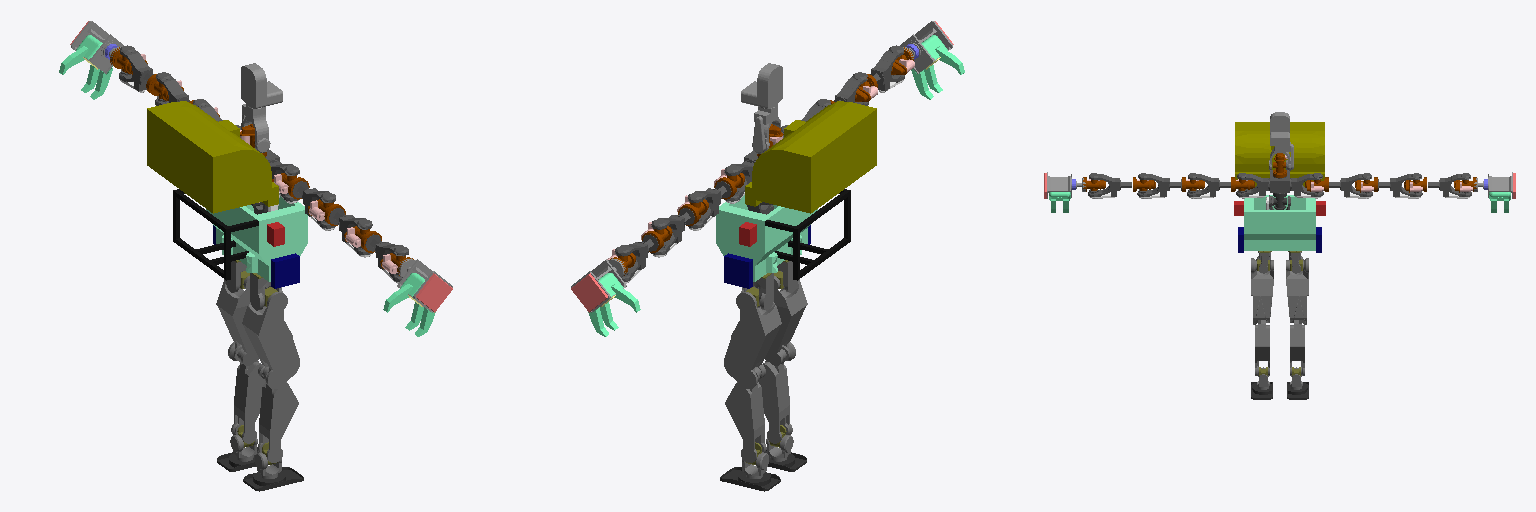
--- What the picture shows (computed from the rendered views, not written in the file) ---
3 views of the same robot in one strip: view 1: azimuth 30°, elevation 25°; view 2: azimuth 150°, elevation 25°; view 3: azimuth 270°, elevation 25° (orthographic).
Model STARO with 33 links and 32 joints (32 revolute), rooted at BODY, posed every joint at zero.
Visible links, largest first — view 1: CHEST_LINK1, BODY, RLEG_LINK2, RARM_LINK7, LARM_LINK7, HEAD_LINK1, RLEG_LINK3, LLEG_LINK3, LLEG_LINK2, RLEG_LINK5, LARM_LINK5, LLEG_LINK5 (+5 smaller); view 2: CHEST_LINK1, BODY, LLEG_LINK2, LARM_LINK7, RARM_LINK7, HEAD_LINK1, LLEG_LINK3, RLEG_LINK3, RLEG_LINK2, LLEG_LINK5, RLEG_LINK5, LARM_LINK1 (+5 smaller); view 3: CHEST_LINK1, BODY, LLEG_LINK2, RLEG_LINK2, HEAD_LINK1, LARM_LINK7, RARM_LINK7, LLEG_LINK3, RLEG_LINK3, RARM_LINK3, RARM_LINK1, RARM_LINK5 (+3 smaller).
Link boxes in pixels (x1,y1,x2,y2): CHEST_LINK1: [147, 101, 299, 213]; BODY: [173, 189, 307, 288]; RLEG_LINK2: [242, 292, 299, 388]; RARM_LINK7: [383, 258, 452, 336]; LARM_LINK7: [59, 21, 123, 99]; HEAD_LINK1: [241, 63, 282, 152]; RLEG_LINK3: [257, 367, 298, 462]; LLEG_LINK3: [231, 345, 265, 443]; LLEG_LINK2: [216, 276, 258, 365]; RLEG_LINK5: [243, 452, 303, 491]; LARM_LINK5: [119, 45, 153, 92]; LLEG_LINK5: [217, 435, 258, 471]; CHEST_LINK1: [724, 101, 876, 213]; BODY: [716, 189, 850, 288]; LLEG_LINK2: [724, 292, 781, 388]; LARM_LINK7: [571, 258, 640, 336]; RARM_LINK7: [900, 21, 964, 99]; HEAD_LINK1: [741, 63, 782, 153]; LLEG_LINK3: [725, 367, 766, 462]; RLEG_LINK3: [758, 345, 792, 443]; RLEG_LINK2: [765, 276, 807, 365]; LLEG_LINK5: [720, 452, 780, 491]; RLEG_LINK5: [765, 435, 806, 471]; LARM_LINK1: [688, 181, 731, 230]; CHEST_LINK1: [1235, 122, 1324, 198]; BODY: [1234, 195, 1325, 252]; LLEG_LINK2: [1286, 258, 1308, 324]; RLEG_LINK2: [1251, 258, 1273, 324]; HEAD_LINK1: [1269, 112, 1293, 170]; LARM_LINK7: [1474, 172, 1515, 212]; RARM_LINK7: [1044, 172, 1085, 212]; LLEG_LINK3: [1290, 320, 1304, 375]; RLEG_LINK3: [1255, 320, 1269, 375]; RARM_LINK3: [1137, 173, 1181, 198]; RARM_LINK1: [1187, 173, 1230, 198]; RARM_LINK5: [1088, 173, 1131, 198].
Bounding box of the posed robot: 0.498 × 2.86 × 1.84 m (x, y, z).
33 mesh visuals loaded from 33 distinct referenced files (33 Collada DAE).

robot.urdf — STARO:
<?xml version="1.0"?>
<robot name="STARO"
       xmlns:xi="http://www.w3.org/2001/XInclude"
       >
  <link name="BODY">
    <visual>
      <origin xyz="0 0 1" rpy="0 -0 0"/>
      <geometry>
        <mesh filename="package://hrpsys_ros_bridge_tutorials/models/STARO_meshes/BODY_mesh.dae" scale="1 1 1" />
      </geometry>
    </visual>
    <collision>
      <origin xyz="0 0 1" rpy="0 -0 0"/>
      <geometry>
        <mesh filename="package://hrpsys_ros_bridge_tutorials/models/STARO_meshes/BODY_mesh.dae" scale="1 1 1" />
      </geometry>
    </collision>
    <inertial>
      <mass value="32.776" />
      <origin xyz="-0.190402 0 0.115894" rpy="0 -0 0"/>
      <inertia ixx="0.69678" ixy="0" ixz="0" iyy="0.452632" iyz="0" izz="0.71809"/>
    </inertial>
  </link>
  <gazebo reference="BODY">
    <mu1>0.9</mu1>
    <mu2>0.9</mu2>
  </gazebo>
  <link name="CHEST_LINK0">
    <visual>
      <origin xyz="0.034 0 0.31625" rpy="0 -0 0"/>
      <geometry>
        <mesh filename="package://hrpsys_ros_bridge_tutorials/models/STARO_meshes/CHEST_LINK0_mesh.dae" scale="1 1 1" />
      </geometry>
    </visual>
    <collision>
      <origin xyz="0.034 0 0.31625" rpy="0 -0 0"/>
      <geometry>
        <mesh filename="package://hrpsys_ros_bridge_tutorials/models/STARO_meshes/CHEST_LINK0_mesh.dae" scale="1 1 1" />
      </geometry>
    </collision>
    <inertial>
      <mass value="1.1993" />
      <origin xyz="-0.0192471 -0.00344975 0.00418919" rpy="0 -0 0"/>
      <inertia ixx="0.00281879" ixy="0" ixz="0" iyy="0.00335762" iyz="0" izz="0.00223065"/>
    </inertial>
  </link>
  <gazebo reference="CHEST_LINK0">
    <mu1>0.9</mu1>
    <mu2>0.9</mu2>
  </gazebo>
  <link name="CHEST_LINK1">
    <visual>
      <origin xyz="0 0 0.11075" rpy="0 -0 0"/>
      <geometry>
        <mesh filename="package://hrpsys_ros_bridge_tutorials/models/STARO_meshes/CHEST_LINK1_mesh.dae" scale="1 1 1" />
      </geometry>
    </visual>
    <collision>
      <origin xyz="0 0 0.11075" rpy="0 -0 0"/>
      <geometry>
        <mesh filename="package://hrpsys_ros_bridge_tutorials/models/STARO_meshes/CHEST_LINK1_mesh.dae" scale="1 1 1" />
      </geometry>
    </collision>
    <inertial>
      <mass value="25.048" />
      <origin xyz="-0.238788 0 0.105496" rpy="0 -0 0"/>
      <inertia ixx="0.636675" ixy="0" ixz="0" iyy="0.476151" iyz="0" izz="0.798847"/>
    </inertial>
  </link>
  <gazebo reference="CHEST_LINK1">
    <mu1>0.9</mu1>
    <mu2>0.9</mu2>
  </gazebo>
  <link name="HEAD_LINK0">
    <visual>
      <origin xyz="-0.04 0 0.11375" rpy="0 -0 0"/>
      <geometry>
        <mesh filename="package://hrpsys_ros_bridge_tutorials/models/STARO_meshes/HEAD_LINK0_mesh.dae" scale="1 1 1" />
      </geometry>
    </visual>
    <collision>
      <origin xyz="-0.04 0 0.11375" rpy="0 -0 0"/>
      <geometry>
        <mesh filename="package://hrpsys_ros_bridge_tutorials/models/STARO_meshes/HEAD_LINK0_mesh.dae" scale="1 1 1" />
      </geometry>
    </collision>
    <inertial>
      <mass value="1.19931" />
      <origin xyz="-0.0192471 0.00344975 -0.00418919" rpy="0 -0 0"/>
      <inertia ixx="0.00281879" ixy="0" ixz="0" iyy="0.00335762" iyz="0" izz="0.00223065"/>
    </inertial>
  </link>
  <gazebo reference="HEAD_LINK0">
    <mu1>0.9</mu1>
    <mu2>0.9</mu2>
  </gazebo>
  <link name="HEAD_LINK1">
    <visual>
      <origin xyz="0 0 0" rpy="0 -0 0"/>
      <geometry>
        <mesh filename="package://hrpsys_ros_bridge_tutorials/models/STARO_meshes/HEAD_LINK1_mesh.dae" scale="1 1 1" />
      </geometry>
    </visual>
    <collision>
      <origin xyz="0 0 0" rpy="0 -0 0"/>
      <geometry>
        <mesh filename="package://hrpsys_ros_bridge_tutorials/models/STARO_meshes/HEAD_LINK1_mesh.dae" scale="1 1 1" />
      </geometry>
    </collision>
    <inertial>
      <mass value="4.66881" />
      <origin xyz="0.011994 0.005204 0.228344" rpy="0 -0 0"/>
      <inertia ixx="0.15" ixy="1.76326e-18" ixz="0.01" iyy="0.16" iyz="-1.33463e-17" izz="0.04"/>
    </inertial>
  </link>
  <gazebo reference="HEAD_LINK1">
    <mu1>0.9</mu1>
    <mu2>0.9</mu2>
  </gazebo>
  <link name="LARM_LINK0">
    <visual>
      <origin xyz="0 0.228 0" rpy="0 -0 0"/>
      <geometry>
        <mesh filename="package://hrpsys_ros_bridge_tutorials/models/STARO_meshes/LARM_LINK0_mesh.dae" scale="1 1 1" />
      </geometry>
    </visual>
    <collision>
      <origin xyz="0 0.228 0" rpy="0 -0 0"/>
      <geometry>
        <mesh filename="package://hrpsys_ros_bridge_tutorials/models/STARO_meshes/LARM_LINK0_mesh.dae" scale="1 1 1" />
      </geometry>
    </collision>
    <inertial>
      <mass value="1.13953" />
      <origin xyz="0.0181233 0.00313031 -0.00166688" rpy="0 -0 0"/>
      <inertia ixx="0.001711" ixy="-9.9e-05" ixz="-9.1e-05" iyy="0.001451" iyz="7e-06" izz="0.002643"/>
    </inertial>
  </link>
  <gazebo reference="LARM_LINK0">
    <mu1>0.9</mu1>
    <mu2>0.9</mu2>
  </gazebo>
  <link name="LARM_LINK1">
    <visual>
      <origin xyz="0 0.06875 0" rpy="0 -0 0"/>
      <geometry>
        <mesh filename="package://hrpsys_ros_bridge_tutorials/models/STARO_meshes/LARM_LINK1_mesh.dae" scale="1 1 1" />
      </geometry>
    </visual>
    <collision>
      <origin xyz="0 0.06875 0" rpy="0 -0 0"/>
      <geometry>
        <mesh filename="package://hrpsys_ros_bridge_tutorials/models/STARO_meshes/LARM_LINK1_mesh.dae" scale="1 1 1" />
      </geometry>
    </collision>
    <inertial>
      <mass value="2.01057" />
      <origin xyz="-1.4651e-05 0.125221 -0.0132115" rpy="0 -0 0"/>
      <inertia ixx="0.048764" ixy="-3e-06" ixz="2e-06" iyy="0.004042" iyz="-0.004373" izz="0.046094"/>
    </inertial>
  </link>
  <gazebo reference="LARM_LINK1">
    <mu1>0.9</mu1>
    <mu2>0.9</mu2>
  </gazebo>
  <link name="LARM_LINK2">
    <visual>
      <origin xyz="0 0.23125 0" rpy="0 -0 0"/>
      <geometry>
        <mesh filename="package://hrpsys_ros_bridge_tutorials/models/STARO_meshes/LARM_LINK2_mesh.dae" scale="1 1 1" />
      </geometry>
    </visual>
    <collision>
      <origin xyz="0 0.23125 0" rpy="0 -0 0"/>
      <geometry>
        <mesh filename="package://hrpsys_ros_bridge_tutorials/models/STARO_meshes/LARM_LINK2_mesh.dae" scale="1 1 1" />
      </geometry>
    </collision>
    <inertial>
      <mass value="1.13953" />
      <origin xyz="0.0181233 0.00313031 -0.00166688" rpy="0 -0 0"/>
      <inertia ixx="0.001711" ixy="-9.9e-05" ixz="-9.1e-05" iyy="0.001451" iyz="7e-06" izz="0.002643"/>
    </inertial>
  </link>
  <gazebo reference="LARM_LINK2">
    <mu1>0.9</mu1>
    <mu2>0.9</mu2>
  </gazebo>
  <link name="LARM_LINK3">
    <visual>
      <origin xyz="0 0.06875 0" rpy="0 -0 0"/>
      <geometry>
        <mesh filename="package://hrpsys_ros_bridge_tutorials/models/STARO_meshes/LARM_LINK3_mesh.dae" scale="1 1 1" />
      </geometry>
    </visual>
    <collision>
      <origin xyz="0 0.06875 0" rpy="0 -0 0"/>
      <geometry>
        <mesh filename="package://hrpsys_ros_bridge_tutorials/models/STARO_meshes/LARM_LINK3_mesh.dae" scale="1 1 1" />
      </geometry>
    </collision>
    <inertial>
      <mass value="2.01057" />
      <origin xyz="-1.4651e-05 0.125221 -0.0132115" rpy="0 -0 0"/>
      <inertia ixx="0.048764" ixy="-3e-06" ixz="2e-06" iyy="0.004042" iyz="-0.004373" izz="0.046094"/>
    </inertial>
  </link>
  <gazebo reference="LARM_LINK3">
    <mu1>0.9</mu1>
    <mu2>0.9</mu2>
  </gazebo>
  <link name="LARM_LINK4">
    <visual>
      <origin xyz="0 0.23125 0" rpy="0 -0 0"/>
      <geometry>
        <mesh filename="package://hrpsys_ros_bridge_tutorials/models/STARO_meshes/LARM_LINK4_mesh.dae" scale="1 1 1" />
      </geometry>
    </visual>
    <collision>
      <origin xyz="0 0.23125 0" rpy="0 -0 0"/>
      <geometry>
        <mesh filename="package://hrpsys_ros_bridge_tutorials/models/STARO_meshes/LARM_LINK4_mesh.dae" scale="1 1 1" />
      </geometry>
    </collision>
    <inertial>
      <mass value="1.13953" />
      <origin xyz="0.0181233 0.00313031 -0.00166688" rpy="0 -0 0"/>
      <inertia ixx="0.001711" ixy="-9.9e-05" ixz="-9.1e-05" iyy="0.001451" iyz="7e-06" izz="0.002643"/>
    </inertial>
  </link>
  <gazebo reference="LARM_LINK4">
    <mu1>0.9</mu1>
    <mu2>0.9</mu2>
  </gazebo>
  <link name="LARM_LINK5">
    <visual>
      <origin xyz="0 0.06875 0" rpy="0 -0 0"/>
      <geometry>
        <mesh filename="package://hrpsys_ros_bridge_tutorials/models/STARO_meshes/LARM_LINK5_mesh.dae" scale="1 1 1" />
      </geometry>
    </visual>
    <collision>
      <origin xyz="0 0.06875 0" rpy="0 -0 0"/>
      <geometry>
        <mesh filename="package://hrpsys_ros_bridge_tutorials/models/STARO_meshes/LARM_LINK5_mesh.dae" scale="1 1 1" />
      </geometry>
    </collision>
    <inertial>
      <mass value="2.01057" />
      <origin xyz="-1.4651e-05 0.125221 -0.0132115" rpy="0 -0 0"/>
      <inertia ixx="0.048764" ixy="-3e-06" ixz="2e-06" iyy="0.004042" iyz="-0.004373" izz="0.046094"/>
    </inertial>
  </link>
  <gazebo reference="LARM_LINK5">
    <mu1>0.9</mu1>
    <mu2>0.9</mu2>
  </gazebo>
  <link name="LARM_LINK6">
    <visual>
      <origin xyz="0 0.23125 0" rpy="0 -0 0"/>
      <geometry>
        <mesh filename="package://hrpsys_ros_bridge_tutorials/models/STARO_meshes/LARM_LINK6_mesh.dae" scale="1 1 1" />
      </geometry>
    </visual>
    <collision>
      <origin xyz="0 0.23125 0" rpy="0 -0 0"/>
      <geometry>
        <mesh filename="package://hrpsys_ros_bridge_tutorials/models/STARO_meshes/LARM_LINK6_mesh.dae" scale="1 1 1" />
      </geometry>
    </collision>
    <inertial>
      <mass value="1.13953" />
      <origin xyz="0.0181233 0.00313031 -0.00166688" rpy="0 -0 0"/>
      <inertia ixx="0.001711" ixy="-9.9e-05" ixz="-9.1e-05" iyy="0.001451" iyz="7e-06" izz="0.002643"/>
    </inertial>
  </link>
  <gazebo reference="LARM_LINK6">
    <mu1>0.9</mu1>
    <mu2>0.9</mu2>
  </gazebo>
  <link name="LARM_LINK7">
    <visual>
      <origin xyz="0 0.0617 0" rpy="0 -0 0"/>
      <geometry>
        <mesh filename="package://hrpsys_ros_bridge_tutorials/models/STARO_meshes/LARM_LINK7_mesh.dae" scale="1 1 1" />
      </geometry>
    </visual>
    <collision>
      <origin xyz="0 0.0617 0" rpy="0 -0 0"/>
      <geometry>
        <mesh filename="package://hrpsys_ros_bridge_tutorials/models/STARO_meshes/LARM_LINK7_mesh.dae" scale="1 1 1" />
      </geometry>
    </collision>
    <inertial>
      <mass value="4.719" />
      <origin xyz="-0.021091 0.120487 -0.025257" rpy="0 -0 0"/>
      <inertia ixx="0.0527968" ixy="0" ixz="0" iyy="0.057042" iyz="0" izz="0.0492541"/>
    </inertial>
  </link>
  <gazebo reference="LARM_LINK7">
    <mu1>0.9</mu1>
    <mu2>0.9</mu2>
  </gazebo>
  <link name="RARM_LINK0">
    <visual>
      <origin xyz="0 -0.228 0" rpy="0 -0 0"/>
      <geometry>
        <mesh filename="package://hrpsys_ros_bridge_tutorials/models/STARO_meshes/RARM_LINK0_mesh.dae" scale="1 1 1" />
      </geometry>
    </visual>
    <collision>
      <origin xyz="0 -0.228 0" rpy="0 -0 0"/>
      <geometry>
        <mesh filename="package://hrpsys_ros_bridge_tutorials/models/STARO_meshes/RARM_LINK0_mesh.dae" scale="1 1 1" />
      </geometry>
    </collision>
    <inertial>
      <mass value="1.13953" />
      <origin xyz="-0.0181233 -0.00313031 -0.00166688" rpy="0 -0 0"/>
      <inertia ixx="0.001711" ixy="-9.9e-05" ixz="9.1e-05" iyy="0.001451" iyz="-7e-06" izz="0.002643"/>
    </inertial>
  </link>
  <gazebo reference="RARM_LINK0">
    <mu1>0.9</mu1>
    <mu2>0.9</mu2>
  </gazebo>
  <link name="RARM_LINK1">
    <visual>
      <origin xyz="0 -0.06875 0" rpy="0 -0 0"/>
      <geometry>
        <mesh filename="package://hrpsys_ros_bridge_tutorials/models/STARO_meshes/RARM_LINK1_mesh.dae" scale="1 1 1" />
      </geometry>
    </visual>
    <collision>
      <origin xyz="0 -0.06875 0" rpy="0 -0 0"/>
      <geometry>
        <mesh filename="package://hrpsys_ros_bridge_tutorials/models/STARO_meshes/RARM_LINK1_mesh.dae" scale="1 1 1" />
      </geometry>
    </collision>
    <inertial>
      <mass value="2.01057" />
      <origin xyz="1.4651e-05 -0.125221 -0.0132115" rpy="0 -0 0"/>
      <inertia ixx="0.048764" ixy="-3e-06" ixz="-2e-06" iyy="0.004042" iyz="0.004373" izz="0.046094"/>
    </inertial>
  </link>
  <gazebo reference="RARM_LINK1">
    <mu1>0.9</mu1>
    <mu2>0.9</mu2>
  </gazebo>
  <link name="RARM_LINK2">
    <visual>
      <origin xyz="0 -0.23125 0" rpy="0 -0 0"/>
      <geometry>
        <mesh filename="package://hrpsys_ros_bridge_tutorials/models/STARO_meshes/RARM_LINK2_mesh.dae" scale="1 1 1" />
      </geometry>
    </visual>
    <collision>
      <origin xyz="0 -0.23125 0" rpy="0 -0 0"/>
      <geometry>
        <mesh filename="package://hrpsys_ros_bridge_tutorials/models/STARO_meshes/RARM_LINK2_mesh.dae" scale="1 1 1" />
      </geometry>
    </collision>
    <inertial>
      <mass value="1.13953" />
      <origin xyz="-0.0181233 -0.00313031 -0.00166688" rpy="0 -0 0"/>
      <inertia ixx="0.001711" ixy="-9.9e-05" ixz="9.1e-05" iyy="0.001451" iyz="-7e-06" izz="0.002643"/>
    </inertial>
  </link>
  <gazebo reference="RARM_LINK2">
    <mu1>0.9</mu1>
    <mu2>0.9</mu2>
  </gazebo>
  <link name="RARM_LINK3">
    <visual>
      <origin xyz="0 -0.06875 0" rpy="0 -0 0"/>
      <geometry>
        <mesh filename="package://hrpsys_ros_bridge_tutorials/models/STARO_meshes/RARM_LINK3_mesh.dae" scale="1 1 1" />
      </geometry>
    </visual>
    <collision>
      <origin xyz="0 -0.06875 0" rpy="0 -0 0"/>
      <geometry>
        <mesh filename="package://hrpsys_ros_bridge_tutorials/models/STARO_meshes/RARM_LINK3_mesh.dae" scale="1 1 1" />
      </geometry>
    </collision>
    <inertial>
      <mass value="2.01057" />
      <origin xyz="1.4651e-05 -0.125221 -0.0132115" rpy="0 -0 0"/>
      <inertia ixx="0.048764" ixy="-3e-06" ixz="-2e-06" iyy="0.004042" iyz="0.004373" izz="0.046094"/>
    </inertial>
  </link>
  <gazebo reference="RARM_LINK3">
    <mu1>0.9</mu1>
    <mu2>0.9</mu2>
  </gazebo>
  <link name="RARM_LINK4">
    <visual>
      <origin xyz="0 -0.23125 0" rpy="0 -0 0"/>
      <geometry>
        <mesh filename="package://hrpsys_ros_bridge_tutorials/models/STARO_meshes/RARM_LINK4_mesh.dae" scale="1 1 1" />
      </geometry>
    </visual>
    <collision>
      <origin xyz="0 -0.23125 0" rpy="0 -0 0"/>
      <geometry>
        <mesh filename="package://hrpsys_ros_bridge_tutorials/models/STARO_meshes/RARM_LINK4_mesh.dae" scale="1 1 1" />
      </geometry>
    </collision>
    <inertial>
      <mass value="1.13953" />
      <origin xyz="-0.0181233 -0.00313031 -0.00166688" rpy="0 -0 0"/>
      <inertia ixx="0.001711" ixy="-9.9e-05" ixz="9.1e-05" iyy="0.001451" iyz="-7e-06" izz="0.002643"/>
    </inertial>
  </link>
  <gazebo reference="RARM_LINK4">
    <mu1>0.9</mu1>
    <mu2>0.9</mu2>
  </gazebo>
  <link name="RARM_LINK5">
    <visual>
      <origin xyz="0 -0.06875 0" rpy="0 -0 0"/>
      <geometry>
        <mesh filename="package://hrpsys_ros_bridge_tutorials/models/STARO_meshes/RARM_LINK5_mesh.dae" scale="1 1 1" />
      </geometry>
    </visual>
    <collision>
      <origin xyz="0 -0.06875 0" rpy="0 -0 0"/>
      <geometry>
        <mesh filename="package://hrpsys_ros_bridge_tutorials/models/STARO_meshes/RARM_LINK5_mesh.dae" scale="1 1 1" />
      </geometry>
    </collision>
    <inertial>
      <mass value="2.01057" />
      <origin xyz="1.4651e-05 -0.125221 -0.0132115" rpy="0 -0 0"/>
      <inertia ixx="0.048764" ixy="-3e-06" ixz="-2e-06" iyy="0.004042" iyz="0.004373" izz="0.046094"/>
    </inertial>
  </link>
  <gazebo reference="RARM_LINK5">
    <mu1>0.9</mu1>
    <mu2>0.9</mu2>
  </gazebo>
  <link name="RARM_LINK6">
    <visual>
      <origin xyz="0 -0.23125 0" rpy="0 -0 0"/>
      <geometry>
        <mesh filename="package://hrpsys_ros_bridge_tutorials/models/STARO_meshes/RARM_LINK6_mesh.dae" scale="1 1 1" />
      </geometry>
    </visual>
    <collision>
      <origin xyz="0 -0.23125 0" rpy="0 -0 0"/>
      <geometry>
        <mesh filename="package://hrpsys_ros_bridge_tutorials/models/STARO_meshes/RARM_LINK6_mesh.dae" scale="1 1 1" />
      </geometry>
    </collision>
    <inertial>
      <mass value="1.13953" />
      <origin xyz="-0.0181233 -0.00313031 -0.00166688" rpy="0 -0 0"/>
      <inertia ixx="0.001711" ixy="-9.9e-05" ixz="9.1e-05" iyy="0.001451" iyz="-7e-06" izz="0.002643"/>
    </inertial>
  </link>
  <gazebo reference="RARM_LINK6">
    <mu1>0.9</mu1>
    <mu2>0.9</mu2>
  </gazebo>
  <link name="RARM_LINK7">
    <visual>
      <origin xyz="0 -0.0617 0" rpy="0 -0 0"/>
      <geometry>
        <mesh filename="package://hrpsys_ros_bridge_tutorials/models/STARO_meshes/RARM_LINK7_mesh.dae" scale="1 1 1" />
      </geometry>
    </visual>
    <collision>
      <origin xyz="0 -0.0617 0" rpy="0 -0 0"/>
      <geometry>
        <mesh filename="package://hrpsys_ros_bridge_tutorials/models/STARO_meshes/RARM_LINK7_mesh.dae" scale="1 1 1" />
      </geometry>
    </collision>
    <inertial>
      <mass value="4.719" />
      <origin xyz="0.021091 -0.120487 -0.025257" rpy="0 -0 0"/>
      <inertia ixx="0.0527968" ixy="0" ixz="0" iyy="0.057042" iyz="0" izz="0.0492541"/>
    </inertial>
  </link>
  <gazebo reference="RARM_LINK7">
    <mu1>0.9</mu1>
    <mu2>0.9</mu2>
  </gazebo>
  <link name="LLEG_LINK0">
    <visual>
      <origin xyz="0 0.1 -0.13" rpy="0 -0 0"/>
      <geometry>
        <mesh filename="package://hrpsys_ros_bridge_tutorials/models/STARO_meshes/LLEG_LINK0_mesh.dae" scale="1 1 1" />
      </geometry>
    </visual>
    <collision>
      <origin xyz="0 0.1 -0.13" rpy="0 -0 0"/>
      <geometry>
        <mesh filename="package://hrpsys_ros_bridge_tutorials/models/STARO_meshes/LLEG_LINK0_mesh.dae" scale="1 1 1" />
      </geometry>
    </collision>
    <inertial>
      <mass value="3.17796" />
      <origin xyz="-0.0226927 -0.0065719 0.0596927" rpy="0 -0 0"/>
      <inertia ixx="0.021215" ixy="0.000442" ixz="-0.002996" iyy="0.025662" iyz="-0.001696" izz="0.008518"/>
    </inertial>
  </link>
  <gazebo reference="LLEG_LINK0">
    <mu1>0.9</mu1>
    <mu2>0.9</mu2>
  </gazebo>
  <link name="LLEG_LINK1">
    <visual>
      <origin xyz="0 0 0" rpy="0 -0 0"/>
      <geometry>
        <mesh filename="package://hrpsys_ros_bridge_tutorials/models/STARO_meshes/LLEG_LINK1_mesh.dae" scale="1 1 1" />
      </geometry>
    </visual>
    <collision>
      <origin xyz="0 0 0" rpy="0 -0 0"/>
      <geometry>
        <mesh filename="package://hrpsys_ros_bridge_tutorials/models/STARO_meshes/LLEG_LINK1_mesh.dae" scale="1 1 1" />
      </geometry>
    </collision>
    <inertial>
      <mass value="1.07827" />
      <origin xyz="-0.00687398 0.0075576 4e-07" rpy="0 -0 0"/>
      <inertia ixx="0.001174" ixy="3e-06" ixz="0" iyy="0.000908" iyz="0" izz="0.001668"/>
    </inertial>
  </link>
  <gazebo reference="LLEG_LINK1">
    <mu1>0.9</mu1>
    <mu2>0.9</mu2>
  </gazebo>
  <link name="LLEG_LINK2">
    <visual>
      <origin xyz="0 0 0" rpy="0 -0 0"/>
      <geometry>
        <mesh filename="package://hrpsys_ros_bridge_tutorials/models/STARO_meshes/LLEG_LINK2_mesh.dae" scale="1 1 1" />
      </geometry>
    </visual>
    <collision>
      <origin xyz="0 0 0" rpy="0 -0 0"/>
      <geometry>
        <mesh filename="package://hrpsys_ros_bridge_tutorials/models/STARO_meshes/LLEG_LINK2_mesh.dae" scale="1 1 1" />
      </geometry>
    </collision>
    <inertial>
      <mass value="5.25696" />
      <origin xyz="0.00314668 0.0279981 -0.184447" rpy="0 -0 0"/>
      <inertia ixx="0.262555" ixy="-5.3e-05" ixz="-0.012397" iyy="0.259532" iyz="-0.026194" izz="0.021105"/>
    </inertial>
  </link>
  <gazebo reference="LLEG_LINK2">
    <mu1>0.9</mu1>
    <mu2>0.9</mu2>
  </gazebo>
  <link name="LLEG_LINK3">
    <visual>
      <origin xyz="0 0 -0.35" rpy="0 -0 0"/>
      <geometry>
        <mesh filename="package://hrpsys_ros_bridge_tutorials/models/STARO_meshes/LLEG_LINK3_mesh.dae" scale="1 1 1" />
      </geometry>
    </visual>
    <collision>
      <origin xyz="0 0 -0.35" rpy="0 -0 0"/>
      <geometry>
        <mesh filename="package://hrpsys_ros_bridge_tutorials/models/STARO_meshes/LLEG_LINK3_mesh.dae" scale="1 1 1" />
      </geometry>
    </collision>
    <inertial>
      <mass value="2.75717" />
      <origin xyz="0.0218854 0.0198498 -0.176264" rpy="0 -0 0"/>
      <inertia ixx="0.129154" ixy="0.00099" ixz="-0.008118" iyy="0.129978" iyz="-0.01022" izz="0.008109"/>
    </inertial>
  </link>
  <gazebo reference="LLEG_LINK3">
    <mu1>0.9</mu1>
    <mu2>0.9</mu2>
  </gazebo>
  <link name="LLEG_LINK4">
    <visual>
      <origin xyz="0 0 -0.35" rpy="0 -0 0"/>
      <geometry>
        <mesh filename="package://hrpsys_ros_bridge_tutorials/models/STARO_meshes/LLEG_LINK4_mesh.dae" scale="1 1 1" />
      </geometry>
    </visual>
    <collision>
      <origin xyz="0 0 -0.35" rpy="0 -0 0"/>
      <geometry>
        <mesh filename="package://hrpsys_ros_bridge_tutorials/models/STARO_meshes/LLEG_LINK4_mesh.dae" scale="1 1 1" />
      </geometry>
    </collision>
    <inertial>
      <mass value="0.861204" />
      <origin xyz="-0.0108552 0.00265416 -0.00745108" rpy="0 -0 0"/>
      <inertia ixx="0.000928" ixy="-1.8e-05" ixz="4.9e-05" iyy="0.001322" iyz="2.1e-05" izz="0.001023"/>
    </inertial>
  </link>
  <gazebo reference="LLEG_LINK4">
    <mu1>0.9</mu1>
    <mu2>0.9</mu2>
  </gazebo>
  <link name="LLEG_LINK5">
    <visual>
      <origin xyz="0 0 -0.04" rpy="0 -0 0"/>
      <geometry>
        <mesh filename="package://hrpsys_ros_bridge_tutorials/models/STARO_meshes/LLEG_LINK5_mesh.dae" scale="1 1 1" />
      </geometry>
    </visual>
    <collision>
      <origin xyz="0 0 -0.04" rpy="0 -0 0"/>
      <geometry>
        <mesh filename="package://hrpsys_ros_bridge_tutorials/models/STARO_meshes/LLEG_LINK5_mesh.dae" scale="1 1 1" />
      </geometry>
    </collision>
    <inertial>
      <mass value="1.56991" />
      <origin xyz="-0.000981687 0.00261915 -0.0551299" rpy="0 -0 0"/>
      <inertia ixx="0.00815" ixy="5.3e-05" ixz="-0.000329" iyy="0.009522" iyz="-0.000362" izz="0.004221"/>
    </inertial>
  </link>
  <gazebo reference="LLEG_LINK5">
    <mu1>0.9</mu1>
    <mu2>0.9</mu2>
  </gazebo>
  <link name="RLEG_LINK0">
    <visual>
      <origin xyz="0 -0.1 -0.13" rpy="0 -0 0"/>
      <geometry>
        <mesh filename="package://hrpsys_ros_bridge_tutorials/models/STARO_meshes/RLEG_LINK0_mesh.dae" scale="1 1 1" />
      </geometry>
    </visual>
    <collision>
      <origin xyz="0 -0.1 -0.13" rpy="0 -0 0"/>
      <geometry>
        <mesh filename="package://hrpsys_ros_bridge_tutorials/models/STARO_meshes/RLEG_LINK0_mesh.dae" scale="1 1 1" />
      </geometry>
    </collision>
    <inertial>
      <mass value="3.17796" />
      <origin xyz="-0.0226927 0.0065719 0.0596927" rpy="0 -0 0"/>
      <inertia ixx="0.021215" ixy="-0.000442" ixz="-0.002996" iyy="0.025662" iyz="0.001696" izz="0.008518"/>
    </inertial>
  </link>
  <gazebo reference="RLEG_LINK0">
    <mu1>0.9</mu1>
    <mu2>0.9</mu2>
  </gazebo>
  <link name="RLEG_LINK1">
    <visual>
      <origin xyz="0 0 0" rpy="0 -0 0"/>
      <geometry>
        <mesh filename="package://hrpsys_ros_bridge_tutorials/models/STARO_meshes/RLEG_LINK1_mesh.dae" scale="1 1 1" />
      </geometry>
    </visual>
    <collision>
      <origin xyz="0 0 0" rpy="0 -0 0"/>
      <geometry>
        <mesh filename="package://hrpsys_ros_bridge_tutorials/models/STARO_meshes/RLEG_LINK1_mesh.dae" scale="1 1 1" />
      </geometry>
    </collision>
    <inertial>
      <mass value="1.07827" />
      <origin xyz="-0.00687398 -0.0075576 4e-07" rpy="0 -0 0"/>
      <inertia ixx="0.001174" ixy="-3e-06" ixz="0" iyy="0.000908" iyz="0" izz="0.001668"/>
    </inertial>
  </link>
  <gazebo reference="RLEG_LINK1">
    <mu1>0.9</mu1>
    <mu2>0.9</mu2>
  </gazebo>
  <link name="RLEG_LINK2">
    <visual>
      <origin xyz="0 0 0" rpy="0 -0 0"/>
      <geometry>
        <mesh filename="package://hrpsys_ros_bridge_tutorials/models/STARO_meshes/RLEG_LINK2_mesh.dae" scale="1 1 1" />
      </geometry>
    </visual>
    <collision>
      <origin xyz="0 0 0" rpy="0 -0 0"/>
      <geometry>
        <mesh filename="package://hrpsys_ros_bridge_tutorials/models/STARO_meshes/RLEG_LINK2_mesh.dae" scale="1 1 1" />
      </geometry>
    </collision>
    <inertial>
      <mass value="5.25696" />
      <origin xyz="0.00314668 -0.0279981 -0.184447" rpy="0 -0 0"/>
      <inertia ixx="0.262555" ixy="5.3e-05" ixz="-0.012397" iyy="0.259532" iyz="0.026194" izz="0.021105"/>
    </inertial>
  </link>
  <gazebo reference="RLEG_LINK2">
    <mu1>0.9</mu1>
    <mu2>0.9</mu2>
  </gazebo>
  <link name="RLEG_LINK3">
    <visual>
      <origin xyz="0 0 -0.35" rpy="0 -0 0"/>
      <geometry>
        <mesh filename="package://hrpsys_ros_bridge_tutorials/models/STARO_meshes/RLEG_LINK3_mesh.dae" scale="1 1 1" />
      </geometry>
    </visual>
    <collision>
      <origin xyz="0 0 -0.35" rpy="0 -0 0"/>
      <geometry>
        <mesh filename="package://hrpsys_ros_bridge_tutorials/models/STARO_meshes/RLEG_LINK3_mesh.dae" scale="1 1 1" />
      </geometry>
    </collision>
    <inertial>
      <mass value="2.75717" />
      <origin xyz="0.0218854 -0.0198498 -0.176264" rpy="0 -0 0"/>
      <inertia ixx="0.129154" ixy="-0.00099" ixz="-0.008118" iyy="0.129978" iyz="0.01022" izz="0.008109"/>
    </inertial>
  </link>
  <gazebo reference="RLEG_LINK3">
    <mu1>0.9</mu1>
    <mu2>0.9</mu2>
  </gazebo>
  <link name="RLEG_LINK4">
    <visual>
      <origin xyz="0 0 -0.35" rpy="0 -0 0"/>
      <geometry>
        <mesh filename="package://hrpsys_ros_bridge_tutorials/models/STARO_meshes/RLEG_LINK4_mesh.dae" scale="1 1 1" />
      </geometry>
    </visual>
    <collision>
      <origin xyz="0 0 -0.35" rpy="0 -0 0"/>
      <geometry>
        <mesh filename="package://hrpsys_ros_bridge_tutorials/models/STARO_meshes/RLEG_LINK4_mesh.dae" scale="1 1 1" />
      </geometry>
    </collision>
    <inertial>
      <mass value="0.861204" />
      <origin xyz="-0.0108552 -0.00265416 -0.00745108" rpy="0 -0 0"/>
      <inertia ixx="0.000928" ixy="1.8e-05" ixz="4.9e-05" iyy="0.001322" iyz="-2.1e-05" izz="0.001023"/>
    </inertial>
  </link>
  <gazebo reference="RLEG_LINK4">
    <mu1>0.9</mu1>
    <mu2>0.9</mu2>
  </gazebo>
  <link name="RLEG_LINK5">
    <visual>
      <origin xyz="0 0 -0.04" rpy="0 -0 0"/>
      <geometry>
        <mesh filename="package://hrpsys_ros_bridge_tutorials/models/STARO_meshes/RLEG_LINK5_mesh.dae" scale="1 1 1" />
      </geometry>
    </visual>
    <collision>
      <origin xyz="0 0 -0.04" rpy="0 -0 0"/>
      <geometry>
        <mesh filename="package://hrpsys_ros_bridge_tutorials/models/STARO_meshes/RLEG_LINK5_mesh.dae" scale="1 1 1" />
      </geometry>
    </collision>
    <inertial>
      <mass value="1.56991" />
      <origin xyz="-0.000981687 -0.00261915 -0.0551299" rpy="0 -0 0"/>
      <inertia ixx="0.00815" ixy="-5.3e-05" ixz="-0.000329" iyy="0.009522" iyz="0.000362" izz="0.004221"/>
    </inertial>
  </link>
  <gazebo reference="RLEG_LINK5">
    <mu1>0.9</mu1>
    <mu2>0.9</mu2>
  </gazebo>
  <joint name="CHEST_JOINT0" type="revolute">
    <parent link="BODY"/>
    <child  link="CHEST_LINK0"/>
    <origin xyz="0.034 0 0.31625" rpy="0 -0 0 "/>
    <axis   xyz="0 1 0"/>
    <limit lower="-0.296706" upper="1.27409" effort="316.804" velocity="4.40217" />
    <dynamics damping="0.2" friction="0" />
  </joint>
  <transmission type="pr2_mechanism_model/SimpleTransmission" name="CHEST_JOINT0_trans" >
    <actuator name="CHEST_JOINT0_motor" />
    <joint name="CHEST_JOINT0" />
    <mechanicalReduction>1</mechanicalReduction>
  </transmission>
  <gazebo reference="CHEST_JOINT0">
    <cfmDamping>0.4</cfmDamping>
  </gazebo>
  <joint name="CHEST_JOINT1" type="revolute">
    <parent link="CHEST_LINK0"/>
    <child  link="CHEST_LINK1"/>
    <origin xyz="0 0 0.11075" rpy="0 -0 0 "/>
    <axis   xyz="0 0 1"/>
    <limit lower="-1.5708" upper="1.5708" effort="316.804" velocity="2.3963" />
    <dynamics damping="0.2" friction="0" />
  </joint>
  <transmission type="pr2_mechanism_model/SimpleTransmission" name="CHEST_JOINT1_trans" >
    <actuator name="CHEST_JOINT1_motor" />
    <joint name="CHEST_JOINT1" />
    <mechanicalReduction>1</mechanicalReduction>
  </transmission>
  <gazebo reference="CHEST_JOINT1">
    <cfmDamping>0.4</cfmDamping>
  </gazebo>
  <joint name="HEAD_JOINT0" type="revolute">
    <parent link="CHEST_LINK1"/>
    <child  link="HEAD_LINK0"/>
    <origin xyz="-0.04 0 0.11375" rpy="0 -0 0 "/>
    <axis   xyz="0 0 1"/>
    <limit lower="-0.436332" upper="0.436332" effort="316.804" velocity="6.87679" />
    <dynamics damping="0.2" friction="0" />
  </joint>
  <transmission type="pr2_mechanism_model/SimpleTransmission" name="HEAD_JOINT0_trans" >
    <actuator name="HEAD_JOINT0_motor" />
    <joint name="HEAD_JOINT0" />
    <mechanicalReduction>1</mechanicalReduction>
  </transmission>
  <gazebo reference="HEAD_JOINT0">
    <cfmDamping>0.4</cfmDamping>
  </gazebo>
  <joint name="HEAD_JOINT1" type="revolute">
    <parent link="HEAD_LINK0"/>
    <child  link="HEAD_LINK1"/>
    <origin xyz="0 0 0" rpy="0 -0 0 "/>
    <axis   xyz="0 1 0"/>
    <limit lower="-0.087266" upper="1.309" effort="316.804" velocity="6.87679" />
    <dynamics damping="0.2" friction="0" />
  </joint>
  <transmission type="pr2_mechanism_model/SimpleTransmission" name="HEAD_JOINT1_trans" >
    <actuator name="HEAD_JOINT1_motor" />
    <joint name="HEAD_JOINT1" />
    <mechanicalReduction>1</mechanicalReduction>
  </transmission>
  <gazebo reference="HEAD_JOINT1">
    <cfmDamping>0.4</cfmDamping>
  </gazebo>
  <joint name="LARM_JOINT0" type="revolute">
    <parent link="CHEST_LINK1"/>
    <child  link="LARM_LINK0"/>
    <origin xyz="0 0.228 0" rpy="0 -0 0 "/>
    <axis   xyz="0 0 1"/>
    <limit lower="-2.35619" upper="0.174533" effort="316.804" velocity="4.17044" />
    <dynamics damping="0.2" friction="0" />
  </joint>
  <transmission type="pr2_mechanism_model/SimpleTransmission" name="LARM_JOINT0_trans" >
    <actuator name="LARM_JOINT0_motor" />
    <joint name="LARM_JOINT0" />
    <mechanicalReduction>1</mechanicalReduction>
  </transmission>
  <gazebo reference="LARM_JOINT0">
    <cfmDamping>0.4</cfmDamping>
  </gazebo>
  <joint name="LARM_JOINT1" type="revolute">
    <parent link="LARM_LINK0"/>
    <child  link="LARM_LINK1"/>
    <origin xyz="0 0.06875 0" rpy="0 -0 0 "/>
    <axis   xyz="0 1 0"/>
    <limit lower="-3.14159" upper="3.14159" effort="316.804" velocity="4.17044" />
    <dynamics damping="0.2" friction="0" />
  </joint>
  <transmission type="pr2_mechanism_model/SimpleTransmission" name="LARM_JOINT1_trans" >
    <actuator name="LARM_JOINT1_motor" />
    <joint name="LARM_JOINT1" />
    <mechanicalReduction>1</mechanicalReduction>
  </transmission>
  <gazebo reference="LARM_JOINT1">
    <cfmDamping>0.4</cfmDamping>
  </gazebo>
  <joint name="LARM_JOINT2" type="revolute">
    <parent link="LARM_LINK1"/>
    <child  link="LARM_LINK2"/>
    <origin xyz="0 0.23125 0" rpy="0 -0 0 "/>
    <axis   xyz="0 0 1"/>
    <limit lower="-2.35619" upper="2.35619" effort="316.804" velocity="2.4192" />
    <dynamics damping="0.2" friction="0" />
  </joint>
  <transmission type="pr2_mechanism_model/SimpleTransmission" name="LARM_JOINT2_trans" >
    <actuator name="LARM_JOINT2_motor" />
    <joint name="LARM_JOINT2" />
    <mechanicalReduction>1</mechanicalReduction>
  </transmission>
  <gazebo reference="LARM_JOINT2">
    <cfmDamping>0.4</cfmDamping>
  </gazebo>
  <joint name="LARM_JOINT3" type="revolute">
    <parent link="LARM_LINK2"/>
    <child  link="LARM_LINK3"/>
    <origin xyz="0 0.06875 0" rpy="0 -0 0 "/>
    <axis   xyz="0 1 0"/>
    <limit lower="-3.14159" upper="3.14159" effort="316.804" velocity="4.15699" />
    <dynamics damping="0.2" friction="0" />
  </joint>
  <transmission type="pr2_mechanism_model/SimpleTransmission" name="LARM_JOINT3_trans" >
    <actuator name="LARM_JOINT3_motor" />
    <joint name="LARM_JOINT3" />
    <mechanicalReduction>1</mechanicalReduction>
  </transmission>
  <gazebo reference="LARM_JOINT3">
    <cfmDamping>0.4</cfmDamping>
  </gazebo>
  <joint name="LARM_JOINT4" type="revolute">
    <parent link="LARM_LINK3"/>
    <child  link="LARM_LINK4"/>
    <origin xyz="0 0.23125 0" rpy="0 -0 0 "/>
    <axis   xyz="0 0 1"/>
    <limit lower="-2.35619" upper="2.35619" effort="316.804" velocity="4.15699" />
    <dynamics damping="0.2" friction="0" />
  </joint>
  <transmission type="pr2_mechanism_model/SimpleTransmission" name="LARM_JOINT4_trans" >
    <actuator name="LARM_JOINT4_motor" />
    <joint name="LARM_JOINT4" />
    <mechanicalReduction>1</mechanicalReduction>
  </transmission>
  <gazebo reference="LARM_JOINT4">
    <cfmDamping>0.4</cfmDamping>
  </gazebo>
  <joint name="LARM_JOINT5" type="revolute">
    <parent link="LARM_LINK4"/>
    <child  link="LARM_LINK5"/>
    <origin xyz="0 0.06875 0" rpy="0 -0 0 "/>
    <axis   xyz="0 1 0"/>
    <limit lower="-3.14159" upper="3.14159" effort="316.804" velocity="2.23776" />
    <dynamics damping="0.2" friction="0" />
  </joint>
  <transmission type="pr2_mechanism_model/SimpleTransmission" name="LARM_JOINT5_trans" >
    <actuator name="LARM_JOINT5_motor" />
    <joint name="LARM_JOINT5" />
    <mechanicalReduction>1</mechanicalReduction>
  </transmission>
  <gazebo reference="LARM_JOINT5">
    <cfmDamping>0.4</cfmDamping>
  </gazebo>
  <joint name="LARM_JOINT6" type="revolute">
    <parent link="LARM_LINK5"/>
    <child  link="LARM_LINK6"/>
    <origin xyz="0 0.23125 0" rpy="0 -0 0 "/>
    <axis   xyz="0 0 1"/>
    <limit lower="-2.35619" upper="2.35619" effort="316.804" velocity="2.23776" />
    <dynamics damping="0.2" friction="0" />
  </joint>
  <transmission type="pr2_mechanism_model/SimpleTransmission" name="LARM_JOINT6_trans" >
    <actuator name="LARM_JOINT6_motor" />
    <joint name="LARM_JOINT6" />
    <mechanicalReduction>1</mechanicalReduction>
  </transmission>
  <gazebo reference="LARM_JOINT6">
    <cfmDamping>0.4</cfmDamping>
  </gazebo>
  <joint name="LARM_JOINT7" type="revolute">
    <parent link="LARM_LINK6"/>
    <child  link="LARM_LINK7"/>
    <origin xyz="0 0.0617 0" rpy="0 -0 0 "/>
    <axis   xyz="0 1 0"/>
    <limit lower="-3.14159" upper="3.14159" effort="316.804" velocity="2.23776" />
    <dynamics damping="0.2" friction="0" />
  </joint>
  <transmission type="pr2_mechanism_model/SimpleTransmission" name="LARM_JOINT7_trans" >
    <actuator name="LARM_JOINT7_motor" />
    <joint name="LARM_JOINT7" />
    <mechanicalReduction>1</mechanicalReduction>
  </transmission>
  <gazebo reference="LARM_JOINT7">
    <cfmDamping>0.4</cfmDamping>
  </gazebo>
  <joint name="RARM_JOINT0" type="revolute">
    <parent link="CHEST_LINK1"/>
    <child  link="RARM_LINK0"/>
    <origin xyz="0 -0.228 0" rpy="0 -0 0 "/>
    <axis   xyz="0 0 1"/>
    <limit lower="-0.174533" upper="2.35619" effort="316.804" velocity="4.17044" />
    <dynamics damping="0.2" friction="0" />
  </joint>
  <transmission type="pr2_mechanism_model/SimpleTransmission" name="RARM_JOINT0_trans" >
    <actuator name="RARM_JOINT0_motor" />
    <joint name="RARM_JOINT0" />
    <mechanicalReduction>1</mechanicalReduction>
  </transmission>
  <gazebo reference="RARM_JOINT0">
    <cfmDamping>0.4</cfmDamping>
  </gazebo>
  <joint name="RARM_JOINT1" type="revolute">
    <parent link="RARM_LINK0"/>
    <child  link="RARM_LINK1"/>
    <origin xyz="0 -0.06875 0" rpy="0 -0 0 "/>
    <axis   xyz="0 1 0"/>
    <limit lower="-3.14159" upper="3.14159" effort="316.804" velocity="4.17044" />
    <dynamics damping="0.2" friction="0" />
  </joint>
  <transmission type="pr2_mechanism_model/SimpleTransmission" name="RARM_JOINT1_trans" >
    <actuator name="RARM_JOINT1_motor" />
    <joint name="RARM_JOINT1" />
    <mechanicalReduction>1</mechanicalReduction>
  </transmission>
  <gazebo reference="RARM_JOINT1">
    <cfmDamping>0.4</cfmDamping>
  </gazebo>
  <joint name="RARM_JOINT2" type="revolute">
    <parent link="RARM_LINK1"/>
    <child  link="RARM_LINK2"/>
    <origin xyz="0 -0.23125 0" rpy="0 -0 0 "/>
    <axis   xyz="0 0 1"/>
    <limit lower="-2.35619" upper="2.35619" effort="316.804" velocity="2.4192" />
    <dynamics damping="0.2" friction="0" />
  </joint>
  <transmission type="pr2_mechanism_model/SimpleTransmission" name="RARM_JOINT2_trans" >
    <actuator name="RARM_JOINT2_motor" />
    <joint name="RARM_JOINT2" />
    <mechanicalReduction>1</mechanicalReduction>
  </transmission>
  <gazebo reference="RARM_JOINT2">
    <cfmDamping>0.4</cfmDamping>
  </gazebo>
  <joint name="RARM_JOINT3" type="revolute">
    <parent link="RARM_LINK2"/>
    <child  link="RARM_LINK3"/>
    <origin xyz="0 -0.06875 0" rpy="0 -0 0 "/>
    <axis   xyz="0 1 0"/>
    <limit lower="-3.14159" upper="3.14159" effort="316.804" velocity="4.15699" />
    <dynamics damping="0.2" friction="0" />
  </joint>
  <transmission type="pr2_mechanism_model/SimpleTransmission" name="RARM_JOINT3_trans" >
    <actuator name="RARM_JOINT3_motor" />
    <joint name="RARM_JOINT3" />
    <mechanicalReduction>1</mechanicalReduction>
  </transmission>
  <gazebo reference="RARM_JOINT3">
    <cfmDamping>0.4</cfmDamping>
  </gazebo>
  <joint name="RARM_JOINT4" type="revolute">
    <parent link="RARM_LINK3"/>
    <child  link="RARM_LINK4"/>
    <origin xyz="0 -0.23125 0" rpy="0 -0 0 "/>
    <axis   xyz="0 0 1"/>
    <limit lower="-2.35619" upper="2.35619" effort="316.804" velocity="4.15699" />
    <dynamics damping="0.2" friction="0" />
  </joint>
  <transmission type="pr2_mechanism_model/SimpleTransmission" name="RARM_JOINT4_trans" >
    <actuator name="RARM_JOINT4_motor" />
    <joint name="RARM_JOINT4" />
    <mechanicalReduction>1</mechanicalReduction>
  </transmission>
  <gazebo reference="RARM_JOINT4">
    <cfmDamping>0.4</cfmDamping>
  </gazebo>
  <joint name="RARM_JOINT5" type="revolute">
    <parent link="RARM_LINK4"/>
    <child  link="RARM_LINK5"/>
    <origin xyz="0 -0.06875 0" rpy="0 -0 0 "/>
    <axis   xyz="0 1 0"/>
    <limit lower="-3.14159" upper="3.14159" effort="316.804" velocity="2.23776" />
    <dynamics damping="0.2" friction="0" />
  </joint>
  <transmission type="pr2_mechanism_model/SimpleTransmission" name="RARM_JOINT5_trans" >
    <actuator name="RARM_JOINT5_motor" />
    <joint name="RARM_JOINT5" />
    <mechanicalReduction>1</mechanicalReduction>
  </transmission>
  <gazebo reference="RARM_JOINT5">
    <cfmDamping>0.4</cfmDamping>
  </gazebo>
  <joint name="RARM_JOINT6" type="revolute">
    <parent link="RARM_LINK5"/>
    <child  link="RARM_LINK6"/>
    <origin xyz="0 -0.23125 0" rpy="0 -0 0 "/>
    <axis   xyz="0 0 1"/>
    <limit lower="-2.35619" upper="2.35619" effort="316.804" velocity="2.23776" />
    <dynamics damping="0.2" friction="0" />
  </joint>
  <transmission type="pr2_mechanism_model/SimpleTransmission" name="RARM_JOINT6_trans" >
    <actuator name="RARM_JOINT6_motor" />
    <joint name="RARM_JOINT6" />
    <mechanicalReduction>1</mechanicalReduction>
  </transmission>
  <gazebo reference="RARM_JOINT6">
    <cfmDamping>0.4</cfmDamping>
  </gazebo>
  <joint name="RARM_JOINT7" type="revolute">
    <parent link="RARM_LINK6"/>
    <child  link="RARM_LINK7"/>
    <origin xyz="0 -0.0617 0" rpy="0 -0 0 "/>
    <axis   xyz="0 1 0"/>
    <limit lower="-3.14159" upper="3.14159" effort="316.804" velocity="2.23776" />
    <dynamics damping="0.2" friction="0" />
  </joint>
  <transmission type="pr2_mechanism_model/SimpleTransmission" name="RARM_JOINT7_trans" >
    <actuator name="RARM_JOINT7_motor" />
    <joint name="RARM_JOINT7" />
    <mechanicalReduction>1</mechanicalReduction>
  </transmission>
  <gazebo reference="RARM_JOINT7">
    <cfmDamping>0.4</cfmDamping>
  </gazebo>
  <joint name="LLEG_JOINT0" type="revolute">
    <parent link="BODY"/>
    <child  link="LLEG_LINK0"/>
    <origin xyz="0 0.1 -0.13" rpy="0 -0 0 "/>
    <axis   xyz="0 0 1"/>
    <limit lower="-1.0472" upper="1.0472" effort="219.998" velocity="17.4444" />
    <dynamics damping="0.2" friction="0" />
  </joint>
  <transmission type="pr2_mechanism_model/SimpleTransmission" name="LLEG_JOINT0_trans" >
    <actuator name="LLEG_JOINT0_motor" />
    <joint name="LLEG_JOINT0" />
    <mechanicalReduction>1</mechanicalReduction>
  </transmission>
  <gazebo reference="LLEG_JOINT0">
    <cfmDamping>0.4</cfmDamping>
  </gazebo>
  <joint name="LLEG_JOINT1" type="revolute">
    <parent link="LLEG_LINK0"/>
    <child  link="LLEG_LINK1"/>
    <origin xyz="0 0 0" rpy="0 -0 0 "/>
    <axis   xyz="1 0 0"/>
    <limit lower="-0.523599" upper="0.785398" effort="449.998" velocity="17.4444" />
    <dynamics damping="0.2" friction="0" />
  </joint>
  <transmission type="pr2_mechanism_model/SimpleTransmission" name="LLEG_JOINT1_trans" >
    <actuator name="LLEG_JOINT1_motor" />
    <joint name="LLEG_JOINT1" />
    <mechanicalReduction>1</mechanicalReduction>
  </transmission>
  <gazebo reference="LLEG_JOINT1">
    <cfmDamping>0.4</cfmDamping>
  </gazebo>
  <joint name="LLEG_JOINT2" type="revolute">
    <parent link="LLEG_LINK1"/>
    <child  link="LLEG_LINK2"/>
    <origin xyz="0 0 0" rpy="0 -0 0 "/>
    <axis   xyz="0 1 0"/>
    <limit lower="-2.18166" upper="0.785398" effort="449.998" velocity="17.4444" />
    <dynamics damping="0.2" friction="0" />
  </joint>
  <transmission type="pr2_mechanism_model/SimpleTransmission" name="LLEG_JOINT2_trans" >
    <actuator name="LLEG_JOINT2_motor" />
    <joint name="LLEG_JOINT2" />
    <mechanicalReduction>1</mechanicalReduction>
  </transmission>
  <gazebo reference="LLEG_JOINT2">
    <cfmDamping>0.4</cfmDamping>
  </gazebo>
  <joint name="LLEG_JOINT3" type="revolute">
    <parent link="LLEG_LINK2"/>
    <child  link="LLEG_LINK3"/>
    <origin xyz="0 0 -0.35" rpy="0 -0 0 "/>
    <axis   xyz="0 1 0"/>
    <limit lower="0" upper="2.53073" effort="449.998" velocity="17.4444" />
    <dynamics damping="0.2" friction="0" />
  </joint>
  <transmission type="pr2_mechanism_model/SimpleTransmission" name="LLEG_JOINT3_trans" >
    <actuator name="LLEG_JOINT3_motor" />
    <joint name="LLEG_JOINT3" />
    <mechanicalReduction>1</mechanicalReduction>
  </transmission>
  <gazebo reference="LLEG_JOINT3">
    <cfmDamping>0.4</cfmDamping>
  </gazebo>
  <joint name="LLEG_JOINT4" type="revolute">
    <parent link="LLEG_LINK3"/>
    <child  link="LLEG_LINK4"/>
    <origin xyz="0 0 -0.35" rpy="0 -0 0 "/>
    <axis   xyz="0 1 0"/>
    <limit lower="-1.5708" upper="1.5708" effort="219.998" velocity="17.4444" />
    <dynamics damping="0.2" friction="0" />
  </joint>
  <transmission type="pr2_mechanism_model/SimpleTransmission" name="LLEG_JOINT4_trans" >
    <actuator name="LLEG_JOINT4_motor" />
    <joint name="LLEG_JOINT4" />
    <mechanicalReduction>1</mechanicalReduction>
  </transmission>
  <gazebo reference="LLEG_JOINT4">
    <cfmDamping>0.4</cfmDamping>
  </gazebo>
  <joint name="LLEG_JOINT5" type="revolute">
    <parent link="LLEG_LINK4"/>
    <child  link="LLEG_LINK5"/>
    <origin xyz="0 0 -0.04" rpy="0 -0 0 "/>
    <axis   xyz="1 0 0"/>
    <limit lower="-1.0472" upper="1.0472" effort="220" velocity="17.4444" />
    <dynamics damping="0.2" friction="0" />
  </joint>
  <transmission type="pr2_mechanism_model/SimpleTransmission" name="LLEG_JOINT5_trans" >
    <actuator name="LLEG_JOINT5_motor" />
    <joint name="LLEG_JOINT5" />
    <mechanicalReduction>1</mechanicalReduction>
  </transmission>
  <gazebo reference="LLEG_JOINT5">
    <cfmDamping>0.4</cfmDamping>
  </gazebo>
  <joint name="RLEG_JOINT0" type="revolute">
    <parent link="BODY"/>
    <child  link="RLEG_LINK0"/>
    <origin xyz="0 -0.1 -0.13" rpy="0 -0 0 "/>
    <axis   xyz="0 0 1"/>
    <limit lower="-1.0472" upper="1.0472" effort="219.998" velocity="17.4444" />
    <dynamics damping="0.2" friction="0" />
  </joint>
  <transmission type="pr2_mechanism_model/SimpleTransmission" name="RLEG_JOINT0_trans" >
    <actuator name="RLEG_JOINT0_motor" />
    <joint name="RLEG_JOINT0" />
    <mechanicalReduction>1</mechanicalReduction>
  </transmission>
  <gazebo reference="RLEG_JOINT0">
    <cfmDamping>0.4</cfmDamping>
  </gazebo>
  <joint name="RLEG_JOINT1" type="revolute">
    <parent link="RLEG_LINK0"/>
    <child  link="RLEG_LINK1"/>
    <origin xyz="0 0 0" rpy="0 -0 0 "/>
    <axis   xyz="1 0 0"/>
    <limit lower="-0.785398" upper="0.523599" effort="449.998" velocity="17.4444" />
    <dynamics damping="0.2" friction="0" />
  </joint>
  <transmission type="pr2_mechanism_model/SimpleTransmission" name="RLEG_JOINT1_trans" >
    <actuator name="RLEG_JOINT1_motor" />
    <joint name="RLEG_JOINT1" />
    <mechanicalReduction>1</mechanicalReduction>
  </transmission>
  <gazebo reference="RLEG_JOINT1">
    <cfmDamping>0.4</cfmDamping>
  </gazebo>
  <joint name="RLEG_JOINT2" type="revolute">
    <parent link="RLEG_LINK1"/>
    <child  link="RLEG_LINK2"/>
    <origin xyz="0 0 0" rpy="0 -0 0 "/>
    <axis   xyz="0 1 0"/>
    <limit lower="-2.0944" upper="0.785398" effort="449.998" velocity="17.4444" />
    <dynamics damping="0.2" friction="0" />
  </joint>
  <transmission type="pr2_mechanism_model/SimpleTransmission" name="RLEG_JOINT2_trans" >
    <actuator name="RLEG_JOINT2_motor" />
    <joint name="RLEG_JOINT2" />
    <mechanicalReduction>1</mechanicalReduction>
  </transmission>
  <gazebo reference="RLEG_JOINT2">
    <cfmDamping>0.4</cfmDamping>
  </gazebo>
  <joint name="RLEG_JOINT3" type="revolute">
    <parent link="RLEG_LINK2"/>
    <child  link="RLEG_LINK3"/>
    <origin xyz="0 0 -0.35" rpy="0 -0 0 "/>
    <axis   xyz="0 1 0"/>
    <limit lower="0" upper="2.53073" effort="449.998" velocity="17.4444" />
    <dynamics damping="0.2" friction="0" />
  </joint>
  <transmission type="pr2_mechanism_model/SimpleTransmission" name="RLEG_JOINT3_trans" >
    <actuator name="RLEG_JOINT3_motor" />
    <joint name="RLEG_JOINT3" />
    <mechanicalReduction>1</mechanicalReduction>
  </transmission>
  <gazebo reference="RLEG_JOINT3">
    <cfmDamping>0.4</cfmDamping>
  </gazebo>
  <joint name="RLEG_JOINT4" type="revolute">
    <parent link="RLEG_LINK3"/>
    <child  link="RLEG_LINK4"/>
    <origin xyz="0 0 -0.35" rpy="0 -0 0 "/>
    <axis   xyz="0 1 0"/>
    <limit lower="-1.5708" upper="1.5708" effort="219.998" velocity="17.4444" />
    <dynamics damping="0.2" friction="0" />
  </joint>
  <transmission type="pr2_mechanism_model/SimpleTransmission" name="RLEG_JOINT4_trans" >
    <actuator name="RLEG_JOINT4_motor" />
    <joint name="RLEG_JOINT4" />
    <mechanicalReduction>1</mechanicalReduction>
  </transmission>
  <gazebo reference="RLEG_JOINT4">
    <cfmDamping>0.4</cfmDamping>
  </gazebo>
  <joint name="RLEG_JOINT5" type="revolute">
    <parent link="RLEG_LINK4"/>
    <child  link="RLEG_LINK5"/>
    <origin xyz="0 0 -0.04" rpy="0 -0 0 "/>
    <axis   xyz="1 0 0"/>
    <limit lower="-1.0472" upper="1.0472" effort="220" velocity="17.4444" />
    <dynamics damping="0.2" friction="0" />
  </joint>
  <transmission type="pr2_mechanism_model/SimpleTransmission" name="RLEG_JOINT5_trans" >
    <actuator name="RLEG_JOINT5_motor" />
    <joint name="RLEG_JOINT5" />
    <mechanicalReduction>1</mechanicalReduction>
  </transmission>
  <gazebo reference="RLEG_JOINT5">
    <cfmDamping>0.4</cfmDamping>
  </gazebo>
</robot>
